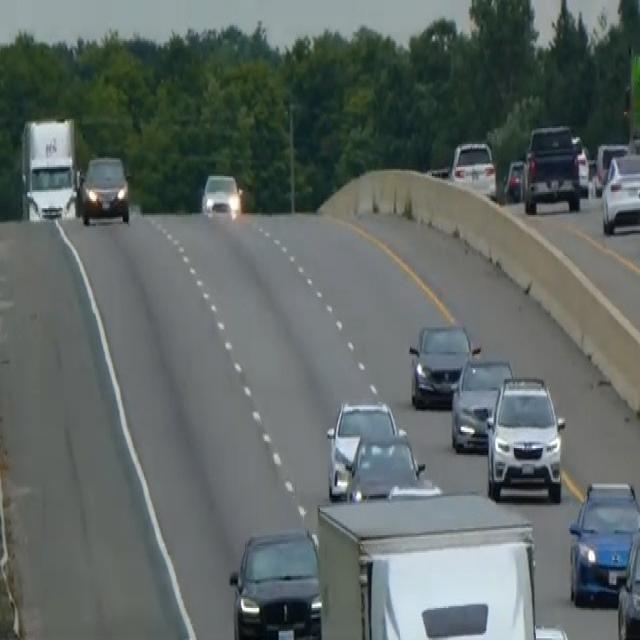car: (228, 524, 322, 638), (567, 476, 639, 608), (325, 396, 397, 498), (345, 427, 440, 501), (450, 352, 514, 453), (407, 318, 478, 409), (79, 153, 130, 226), (601, 149, 639, 235), (449, 137, 497, 197), (616, 523, 639, 638), (200, 169, 241, 222), (593, 140, 628, 196), (571, 132, 590, 196), (503, 156, 525, 202)
jeep: (484, 372, 567, 503), (521, 121, 584, 215)
lorry: (18, 114, 81, 222)
truck: (315, 489, 568, 638)
